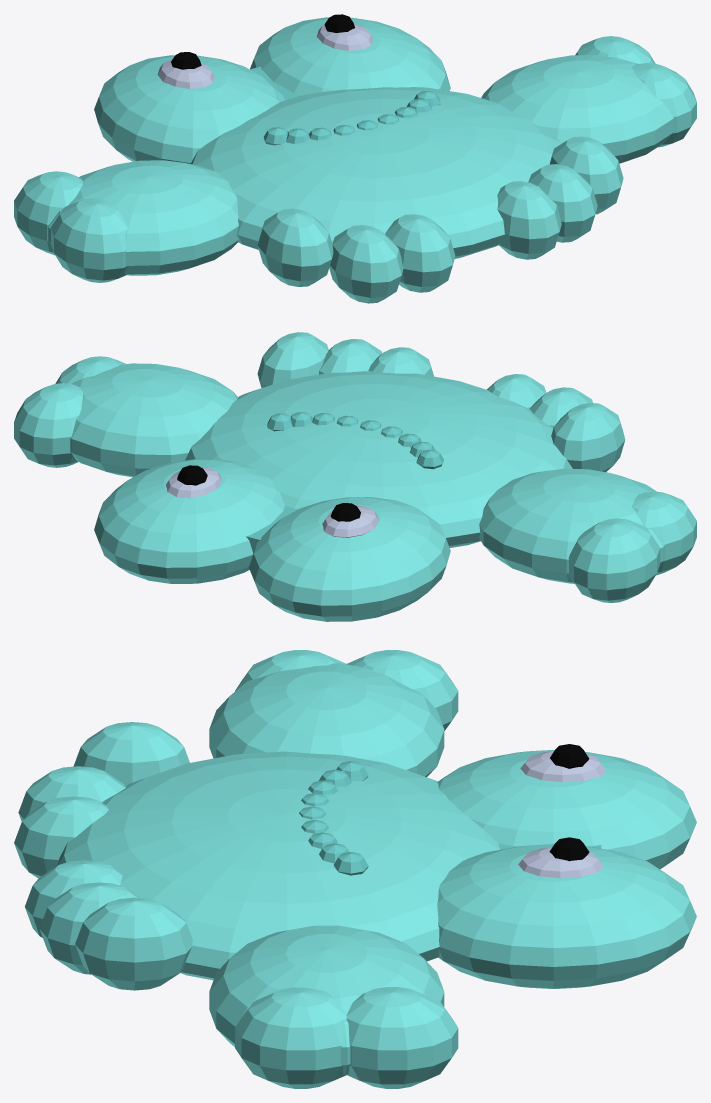
File: MoldeCangrejo.glb
The picture shows the model from 3 angles, top to bottom: view 1: azimuth 30°, elevation 25°; view 2: azimuth 150°, elevation 25°; view 3: azimuth 270°, elevation 25°; orthographic projection. The views are drawn at different scales.
Parts seen in each view (by area): view 1: Ca_Cuerpo, Ca_Brazo-1, Ca_Pinza-0.28, Ca_Brazo1, Ca_Pinza0.28, Ca_Dedo-1_0, Ca_Pata0, Ca_Pata1, Ca_Pata4, Ca_Pata2, Ca_Dedo-1_2, Ca_Pata5 (+6 smaller); view 2: Ca_Cuerpo, Ca_Pinza-0.28, Ca_Pinza0.28, Ca_Brazo1, Ca_Brazo-1, Ca_Dedo-1_2, Ca_Dedo1_2, Ca_Pata0, Ca_Dedo-1_0, Ca_Pata6, Ca_Pata5, Ca_Pata1 (+7 smaller); view 3: Ca_Cuerpo, Ca_Pinza0.28, Ca_Brazo-1, Ca_Pinza-0.28, Ca_Brazo1, Ca_Dedo1_2, Ca_Dedo1_0, Ca_Pata6, Ca_Pata0, Ca_Pata2, Ca_Pata5, Ca_Dedo-1_2 (+7 smaller).
Part boxes in pixels (x1,y1,x2,y2): Ca_Cuerpo: (190, 87, 561, 258); Ca_Brazo-1: (48, 160, 238, 275); Ca_Pinza-0.28: (94, 55, 284, 163); Ca_Brazo1: (481, 55, 674, 163); Ca_Pinza0.28: (250, 17, 450, 95); Ca_Dedo-1_0: (50, 198, 127, 282); Ca_Pata0: (257, 208, 333, 286); Ca_Pata1: (329, 225, 403, 303); Ca_Pata4: (497, 181, 561, 259); Ca_Pata2: (385, 214, 455, 292); Ca_Dedo-1_2: (14, 171, 82, 255); Ca_Pata5: (528, 164, 597, 242); Ca_Cuerpo: (185, 371, 572, 547); Ca_Pinza-0.28: (249, 497, 450, 621); Ca_Pinza0.28: (94, 459, 284, 583); Ca_Brazo1: (70, 363, 238, 477); Ca_Brazo-1: (479, 468, 664, 583); Ca_Dedo-1_2: (568, 518, 660, 602); Ca_Dedo1_2: (14, 383, 82, 467); Ca_Pata0: (551, 403, 625, 472); Ca_Dedo-1_0: (632, 491, 696, 575); Ca_Pata6: (257, 332, 328, 387); Ca_Pata5: (319, 339, 381, 374); Ca_Pata1: (529, 387, 592, 427); Ca_Cuerpo: (57, 751, 499, 980); Ca_Pinza0.28: (437, 844, 696, 988); Ca_Brazo-1: (209, 663, 444, 777); Ca_Pinza-0.28: (437, 750, 696, 869); Ca_Brazo1: (209, 925, 444, 1074); Ca_Dedo1_2: (346, 987, 458, 1088); Ca_Dedo1_0: (235, 987, 346, 1088); Ca_Pata6: (75, 897, 192, 990); Ca_Pata0: (73, 722, 189, 785); Ca_Pata2: (14, 796, 108, 878); Ca_Pata5: (39, 882, 140, 974); Ca_Dedo-1_2: (346, 650, 458, 730).
Bounding box in the file's own units: 2.27 × 0.3614 × 1.72.
